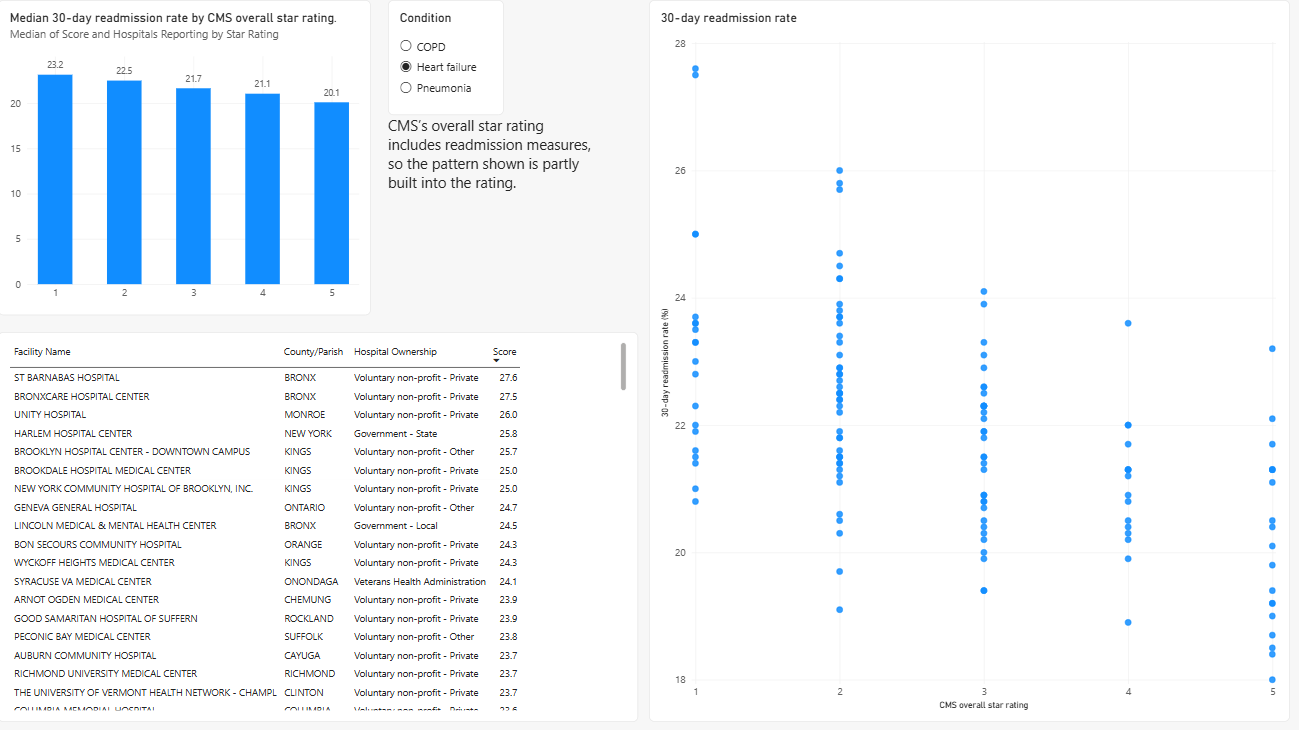

Layout of this report page (visuals, bound fields, positions):
{"tool":"powerbi","page":{"name":"Page 2","canvas":[1920,1080],"ordinal":1},"visuals":[{"type":"clusteredColumnChart","title":"Median 30-day readmission rate by CMS overall star rating.","fields":{"Category":["Merge1.Star Rating"],"Y":["Median(Merge1.Score)"]},"box":[10.2,0,544.2,459.6],"z":0},{"type":"scatterChart","title":"30-day readmission rate","fields":{"Category":["Merge1.Facility Name"],"X":["Avg(Merge1.Star Rating)"],"Y":["Avg(Merge1.Score)"]},"box":[960,0,935.2,1053.4],"z":1000},{"type":"tableEx","fields":{"Values":["Merge1.Facility Name","Merge1.County/Parish","Merge1.Hospital_General_Information.Hospital Ownership","Merge1.Score"]},"box":[10.2,484.4,933.7,569],"z":2000},{"type":"listSlicer","fields":{"Values":["Merge1.Condition"]},"box":[579.2,0,169.2,167.8],"z":3000},{"type":"textbox","box":[579.2,167.8,296.2,291.8],"z":3001}]}

Visuals, with their boxes in screenshot pixels (x1, y1, x2, y2), scaled from the page's 1920x1080 canvas onto the 1299x730 screenshot:
"Median 30-day readmission rate by CMS overall star rating." clusteredColumnChart: bbox=[7, 0, 375, 311]
"30-day readmission rate" scatterChart: bbox=[650, 0, 1282, 712]
tableEx - Merge1.Facility Name x Merge1.County/Parish: bbox=[7, 327, 639, 712]
listSlicer - Merge1.Condition: bbox=[392, 0, 506, 113]
textbox: bbox=[392, 113, 592, 311]
